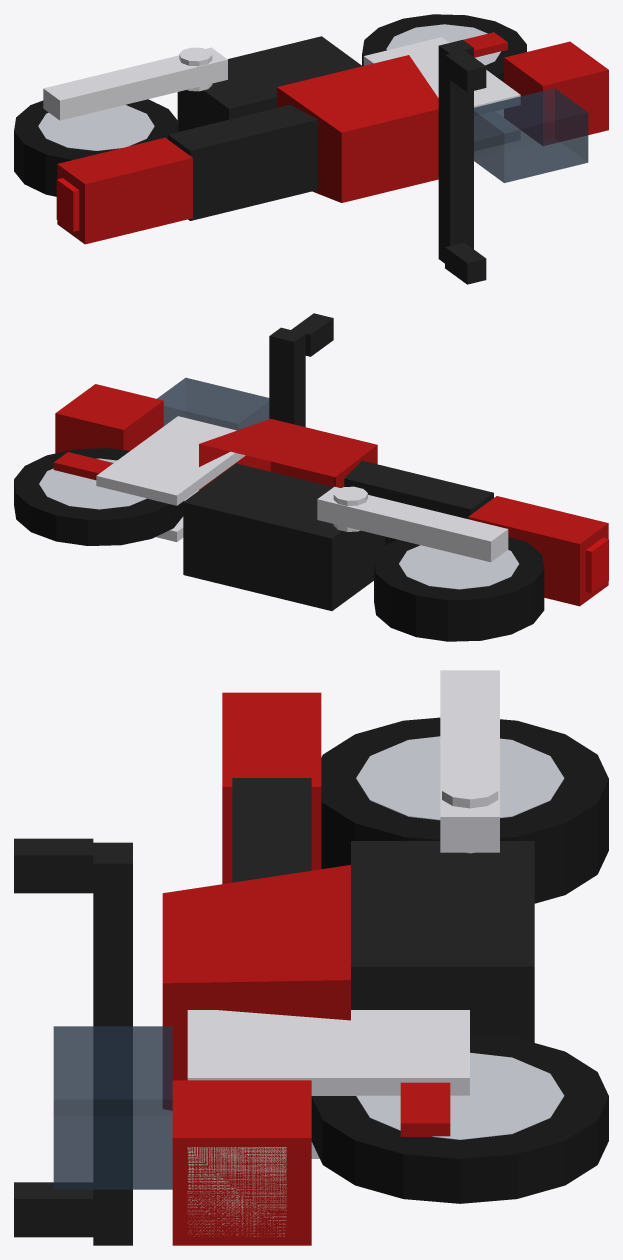
The model's file is Motocicleta.obj.
3 renders of one model, top to bottom at view 1: azimuth 30°, elevation 25°; view 2: azimuth 150°, elevation 25°; view 3: azimuth 270°, elevation 25°, orthographic. The views are drawn at different scales.
Parts seen in each view (by area): view 1: Fuel_Tank, Seat, Tail_Fairing, Windshield, Headlight_Fairing, Wheel_Rear, Engine_Block, Exhaust, Handlebars, Wheel_Front, Fork, Mirrors (+2 smaller); view 2: Engine_Block, Wheel_Rear, Wheel_Front, Fork, Exhaust, Fuel_Tank, Tail_Fairing, Headlight_Fairing, Seat, Windshield, Handlebars, Taillight (+2 smaller); view 3: Wheel_Front, Engine_Block, Wheel_Rear, Fuel_Tank, Headlight_Fairing, Fork, Windshield, Handlebars, Exhaust, Tail_Fairing, Mirrors, Seat (+2 smaller).
Part boxes in pixels (x1,y1,x2,y2): Fuel_Tank: [277, 55, 438, 202]; Seat: [168, 104, 317, 220]; Tail_Fairing: [57, 137, 192, 244]; Windshield: [474, 88, 588, 182]; Headlight_Fairing: [504, 41, 608, 145]; Wheel_Rear: [14, 99, 178, 196]; Engine_Block: [177, 36, 362, 131]; Exhaust: [43, 47, 227, 120]; Handlebars: [438, 40, 473, 263]; Wheel_Front: [362, 14, 526, 82]; Fork: [363, 37, 520, 150]; Mirrors: [445, 50, 486, 284]; Engine_Block: [183, 463, 384, 610]; Wheel_Rear: [374, 537, 544, 641]; Wheel_Front: [14, 448, 184, 545]; Fork: [96, 416, 245, 541]; Exhaust: [317, 486, 508, 562]; Fuel_Tank: [199, 419, 377, 490]; Tail_Fairing: [468, 496, 608, 606]; Headlight_Fairing: [55, 384, 163, 453]; Seat: [334, 460, 493, 545]; Windshield: [157, 377, 269, 430]; Handlebars: [269, 327, 305, 426]; Taillight: [585, 538, 608, 593]; Wheel_Front: [311, 1034, 608, 1203]; Engine_Block: [351, 841, 534, 1042]; Wheel_Rear: [321, 717, 608, 903]; Fuel_Tank: [162, 865, 350, 1109]; Headlight_Fairing: [172, 1080, 311, 1245]; Fork: [187, 1010, 469, 1158]; Windshield: [53, 1026, 172, 1189]; Handlebars: [93, 842, 132, 1245]; Exhaust: [440, 670, 499, 853]; Tail_Fairing: [222, 692, 321, 883]; Mirrors: [14, 838, 93, 1237]; Seat: [232, 778, 311, 882].
Bounding box in the file's own units: 215 × 85 × 120.
